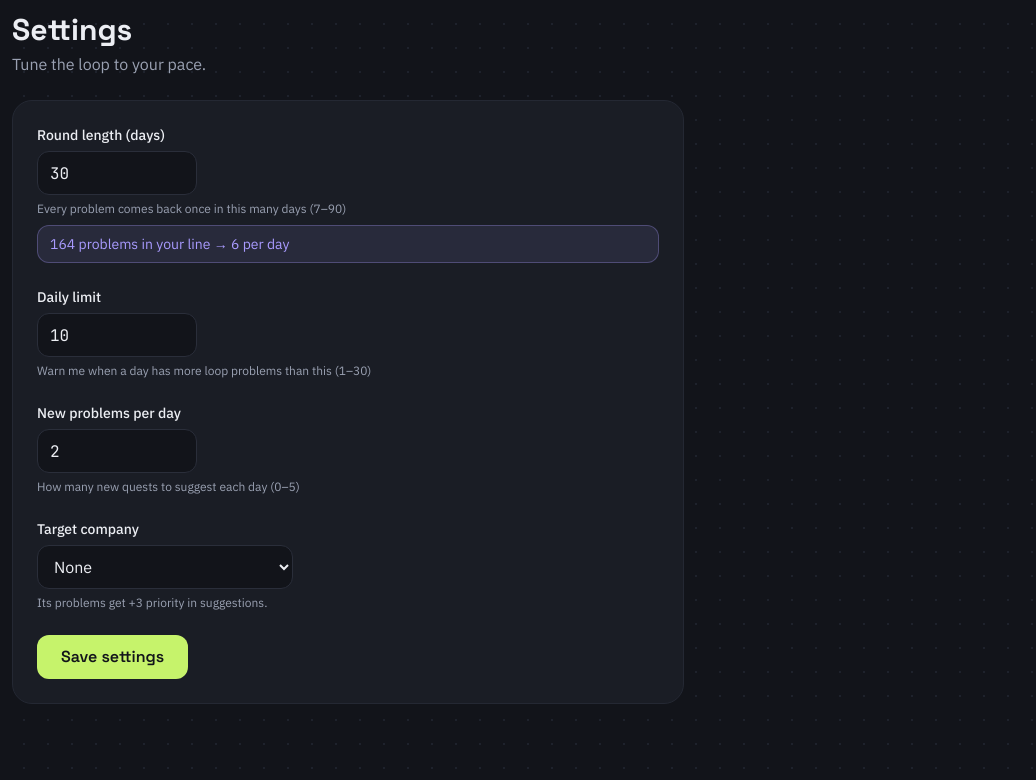
Test case: Settings page › saves the form
Replace the text in the number field labelled "Round length (days)" with "45": [117, 173] box [37,151,197,195]
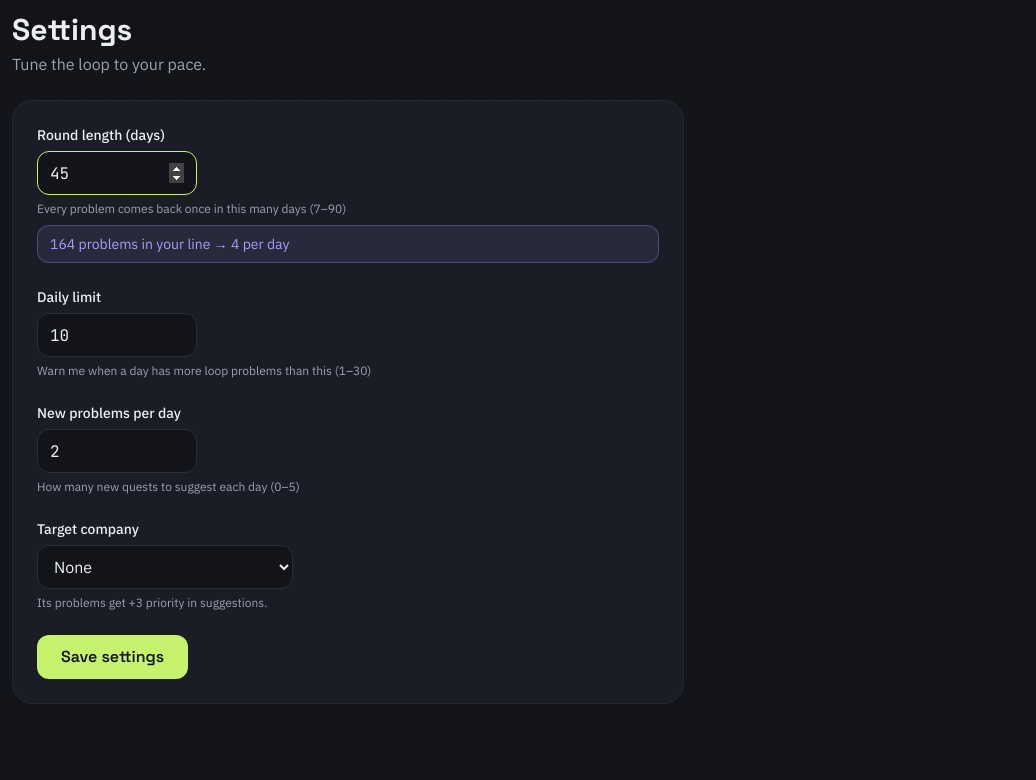
Select "Google" in the dropdown labelled "Target company": [165, 567] box [37,545,293,589]
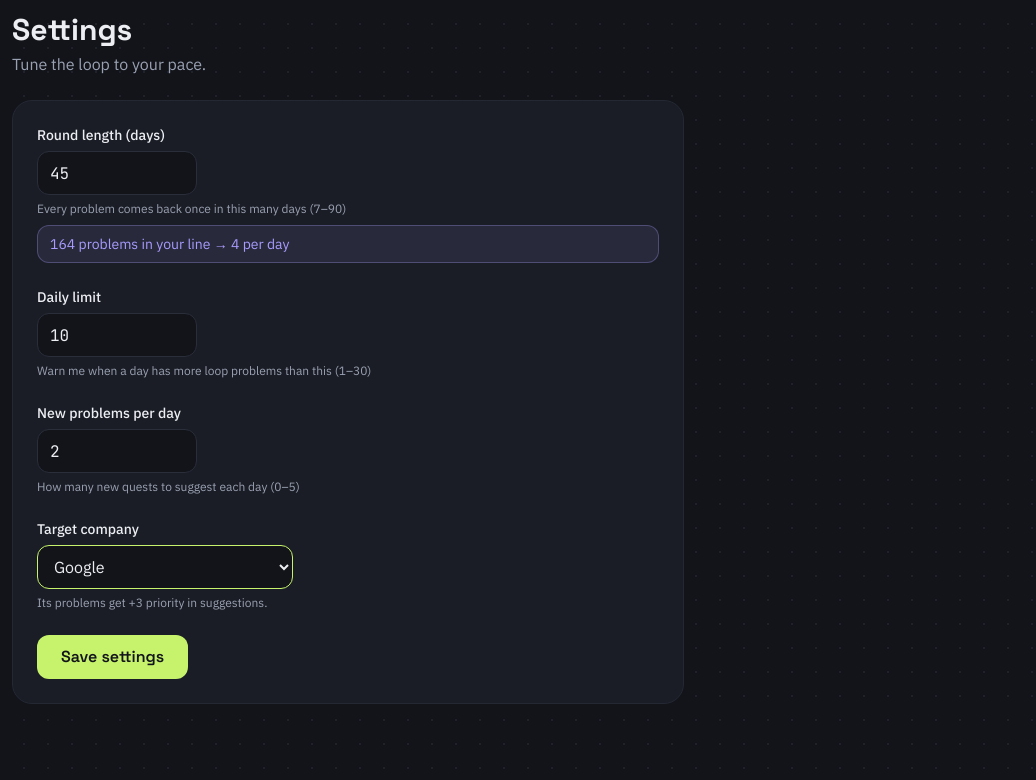
Click the button "Save settings": [113, 657] box [37,635,188,679]
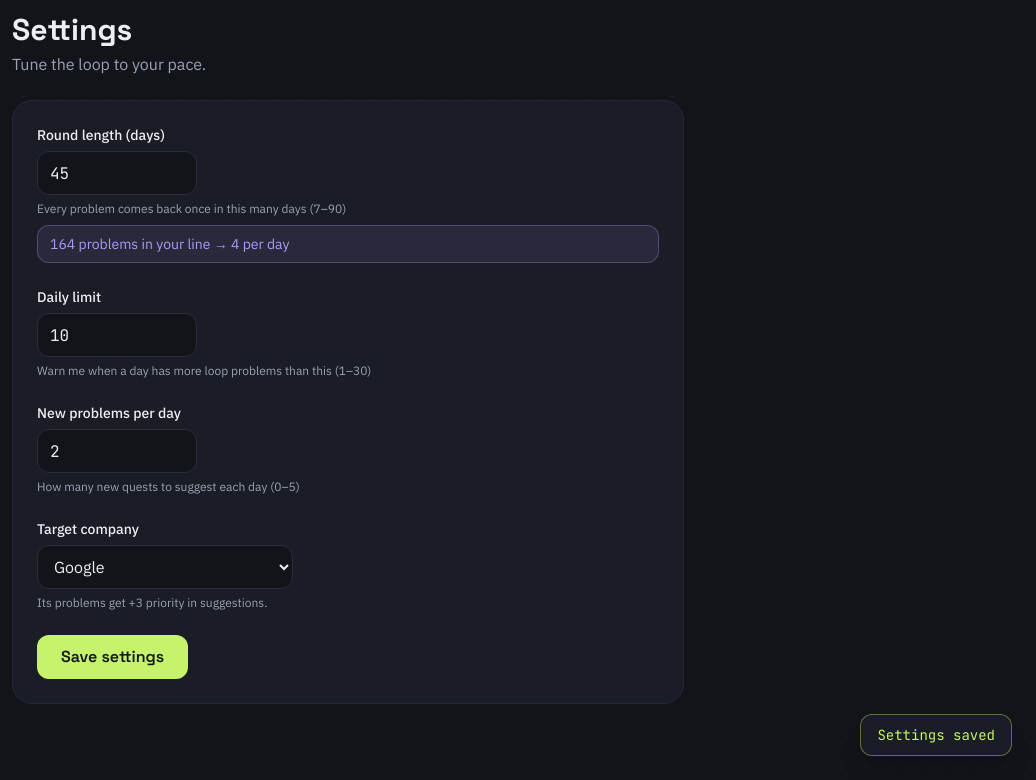
Now the button "Settings saved" is shown, box [860,714,1012,756]
